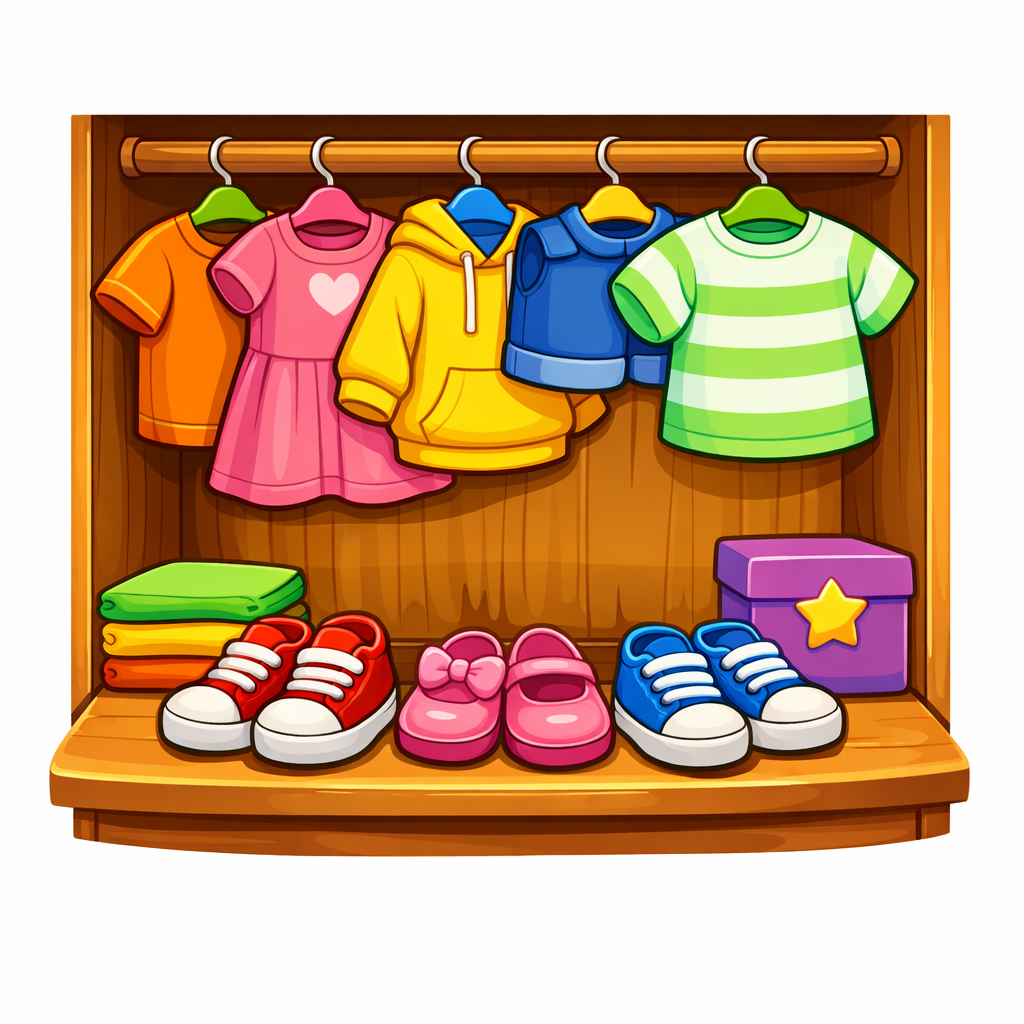Skoene: (125, 591, 864, 777)
